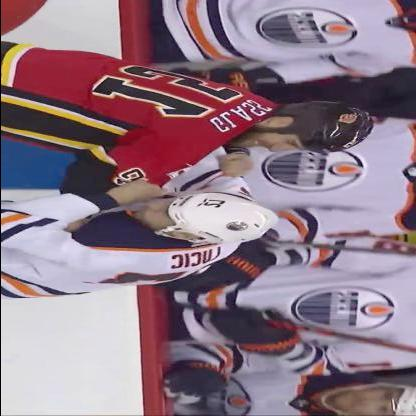voilence: (0, 76, 374, 287)
